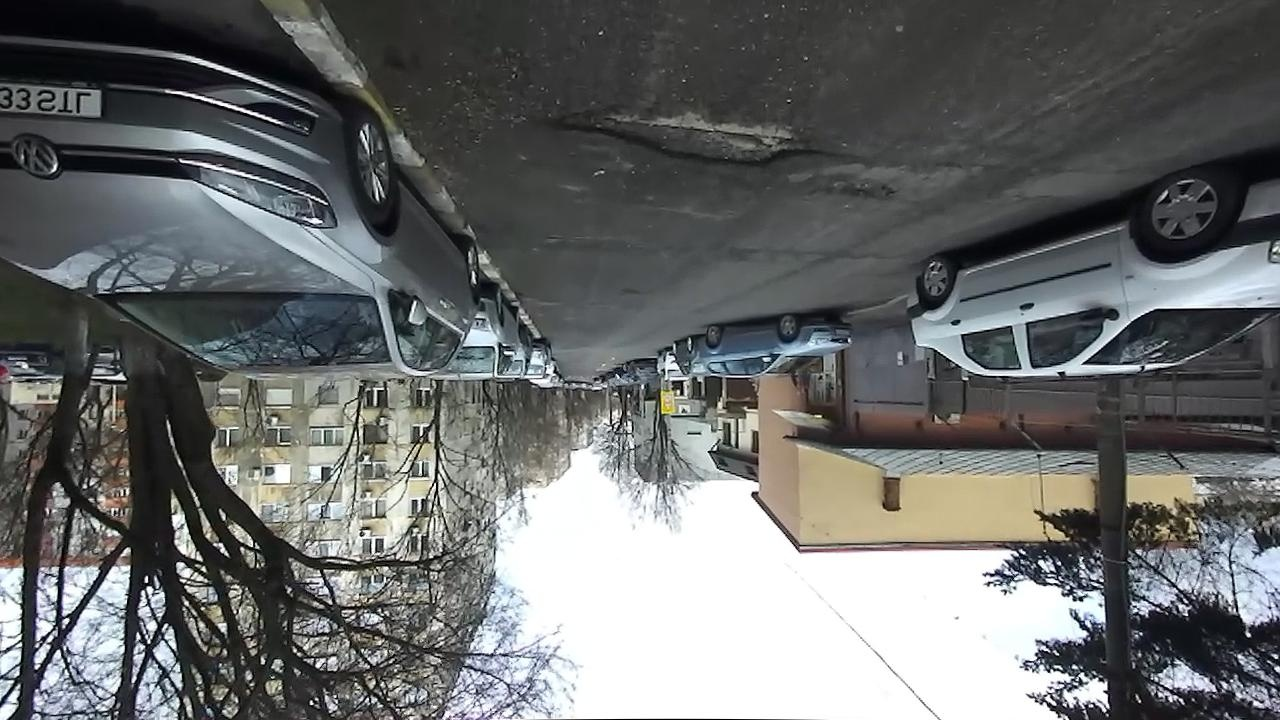pothole: (543, 106, 835, 174), (813, 175, 906, 207), (541, 232, 590, 245)
